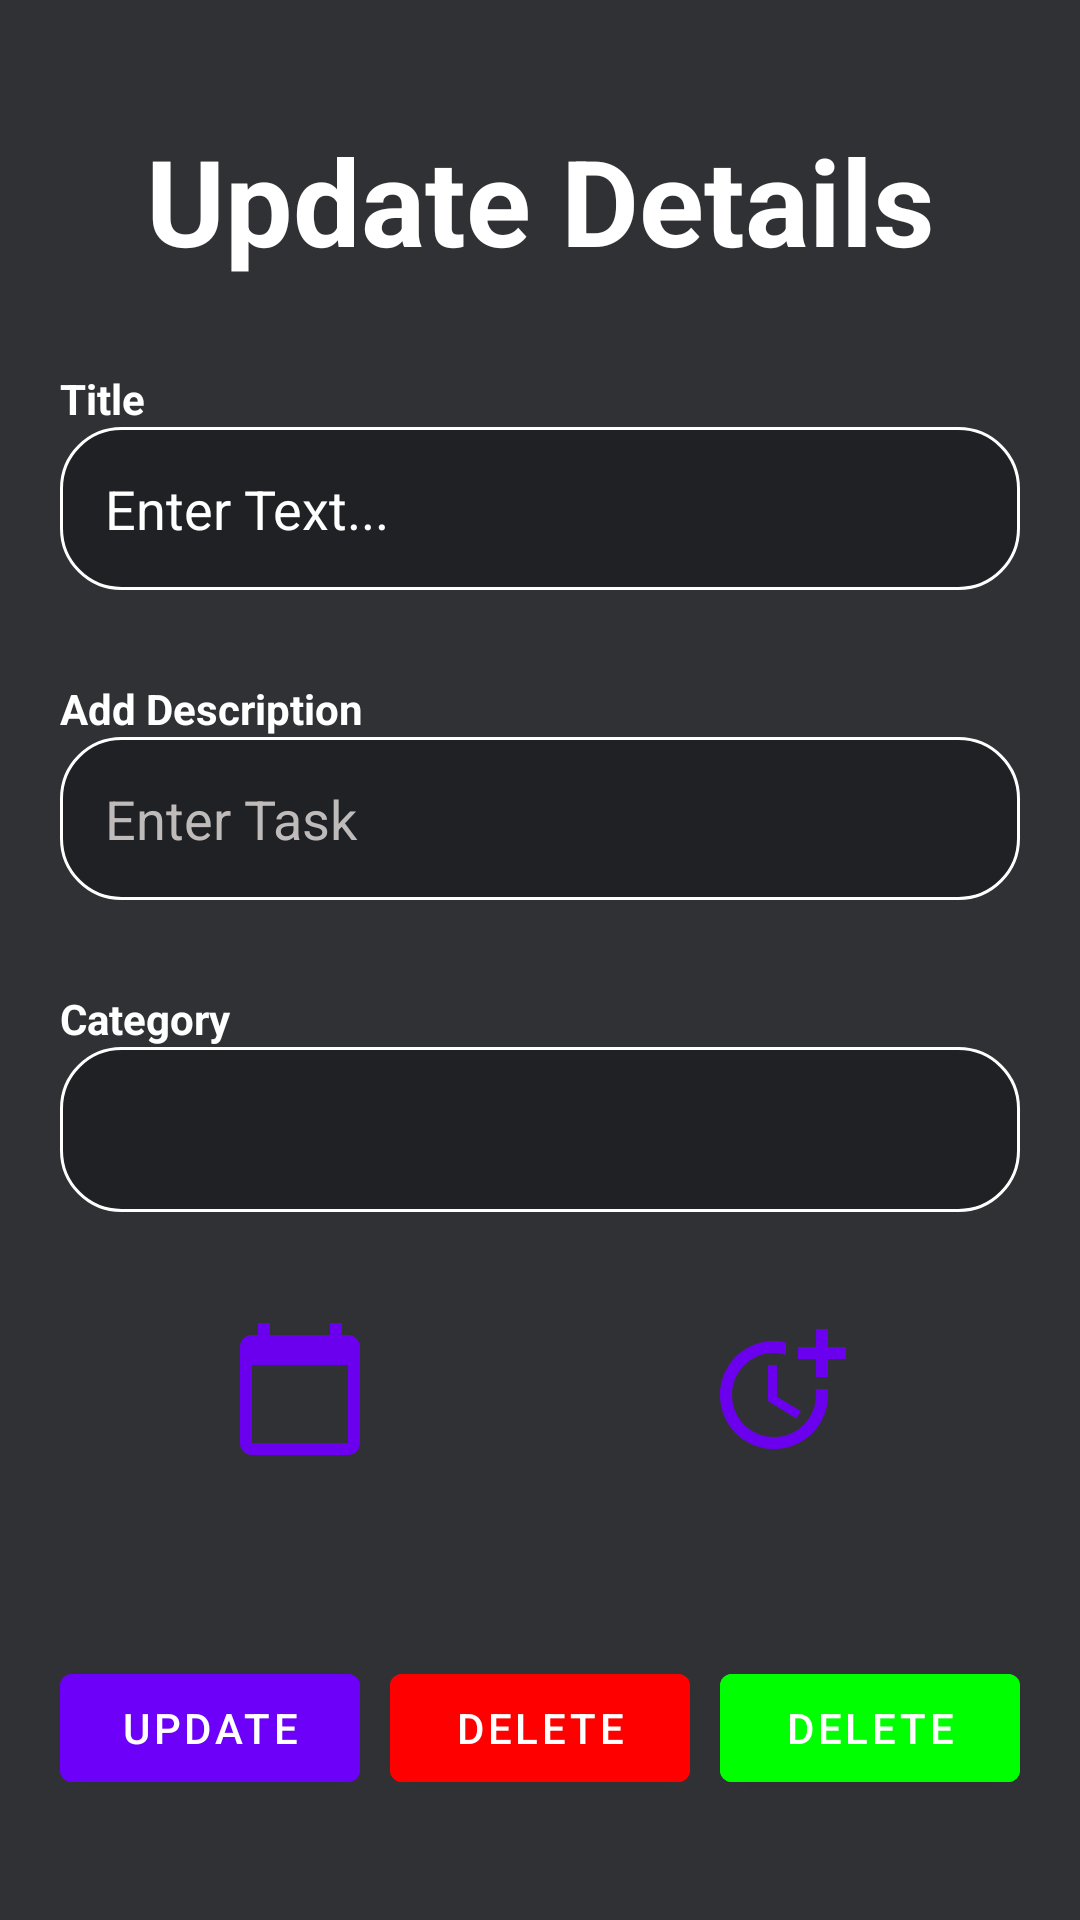

Screen size 1080*1920. Icon name, then its box in pixels as (x1, y1, x2, y2):
calendar: (240, 1323, 360, 1455)
time: (720, 1329, 846, 1449)
